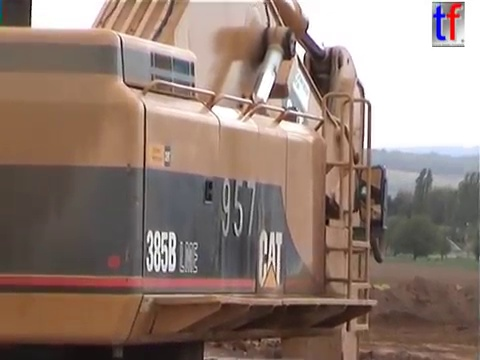excavator: (1, 1, 393, 360)
